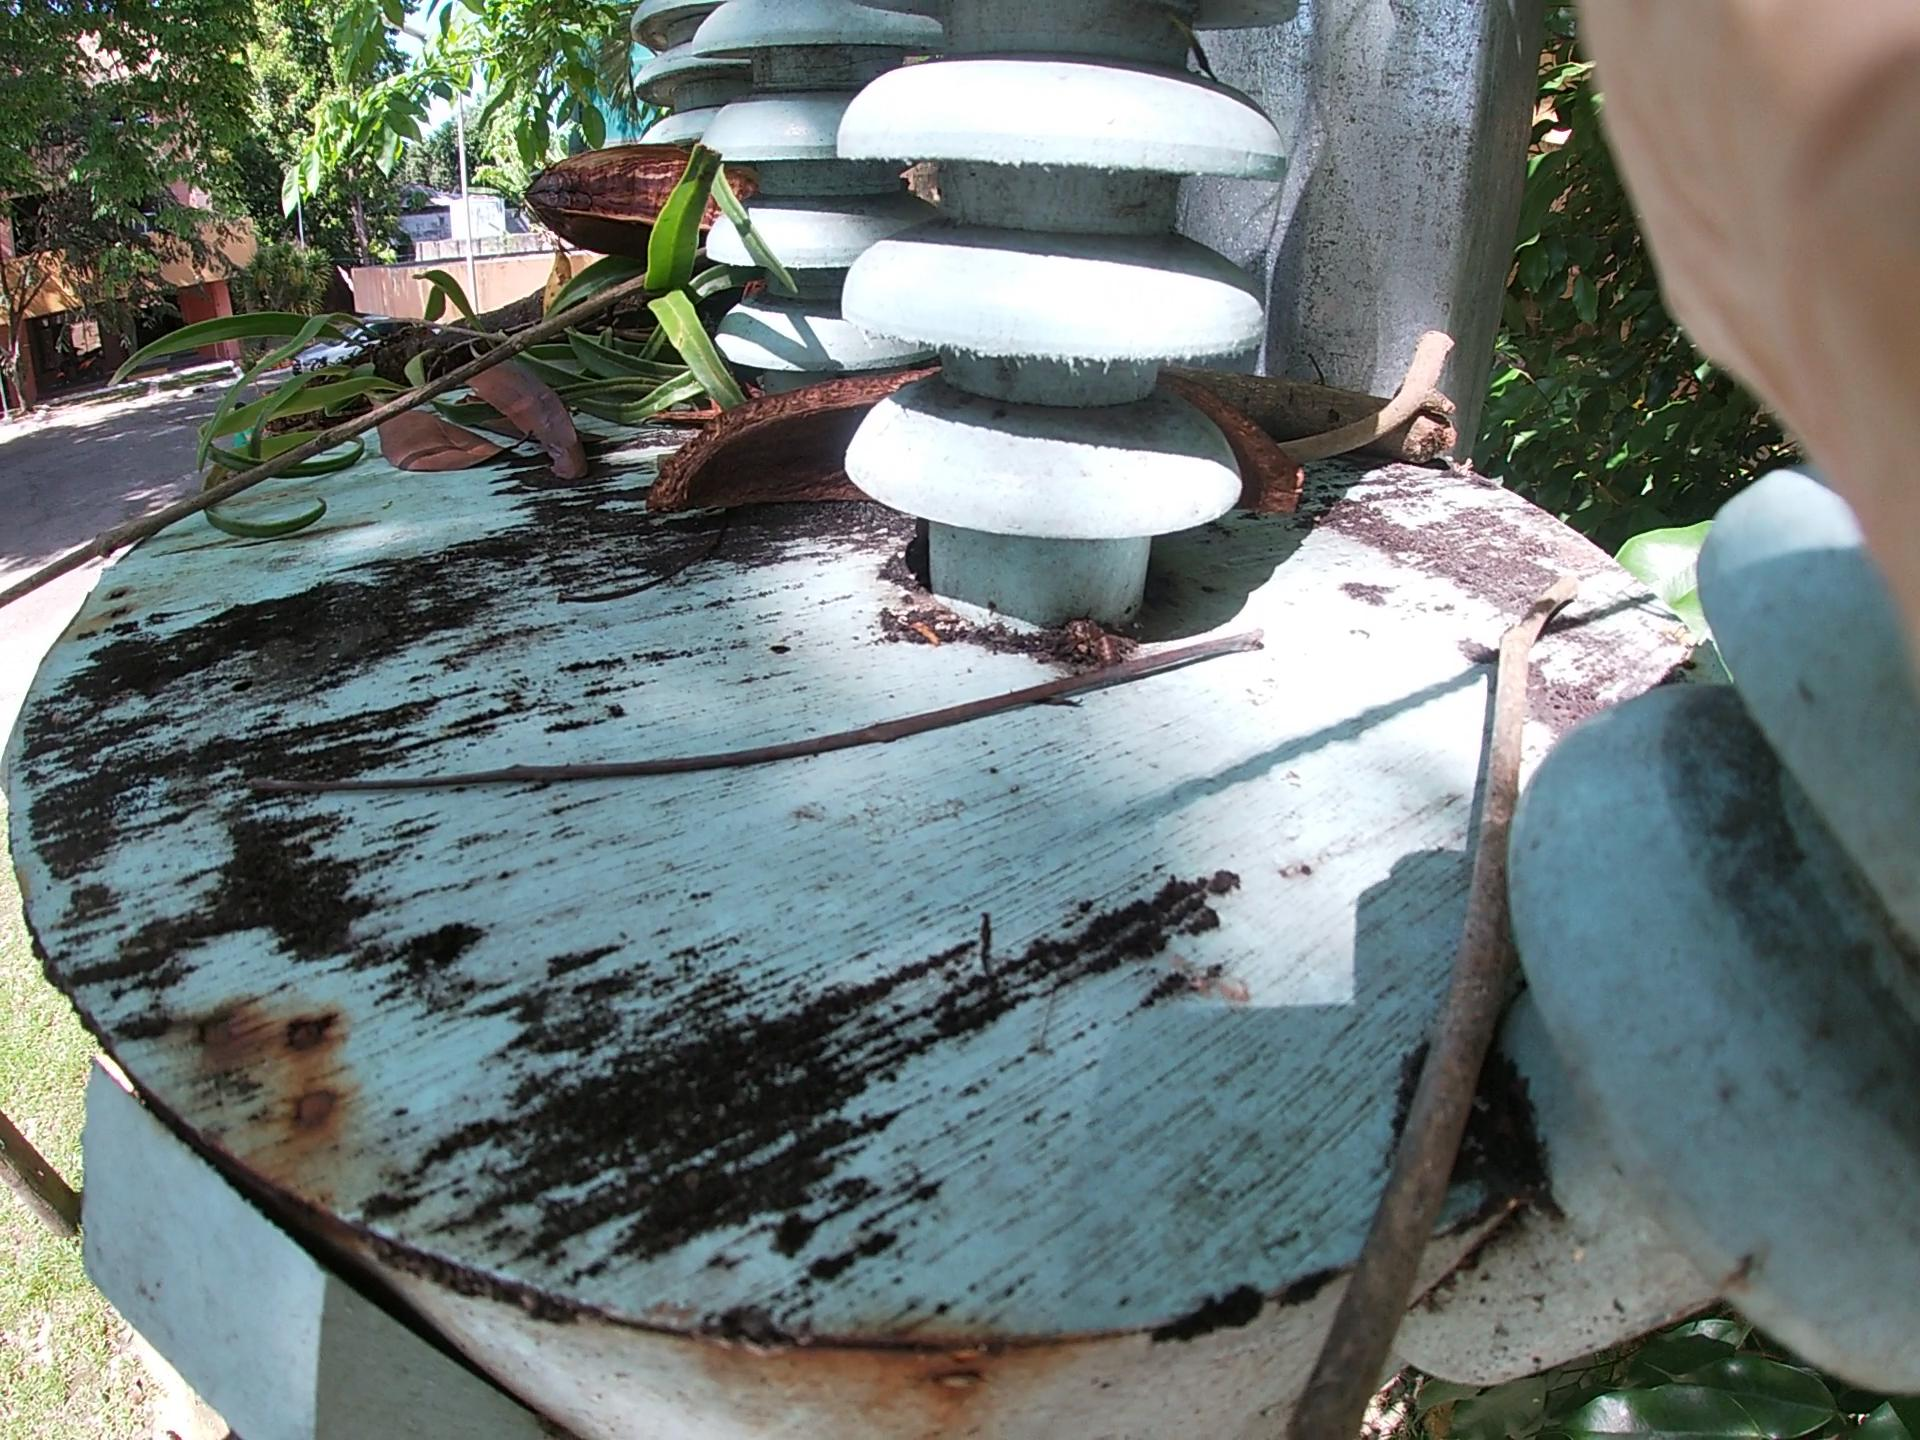branch with leaves: (2, 253, 745, 597)
leaf: (311, 303, 649, 546)
mahogany fruit: (605, 351, 1469, 597), (469, 85, 912, 340)
tree branch: (41, 222, 712, 555), (1311, 535, 1531, 1431), (301, 620, 1179, 782), (1179, 296, 1454, 484)
